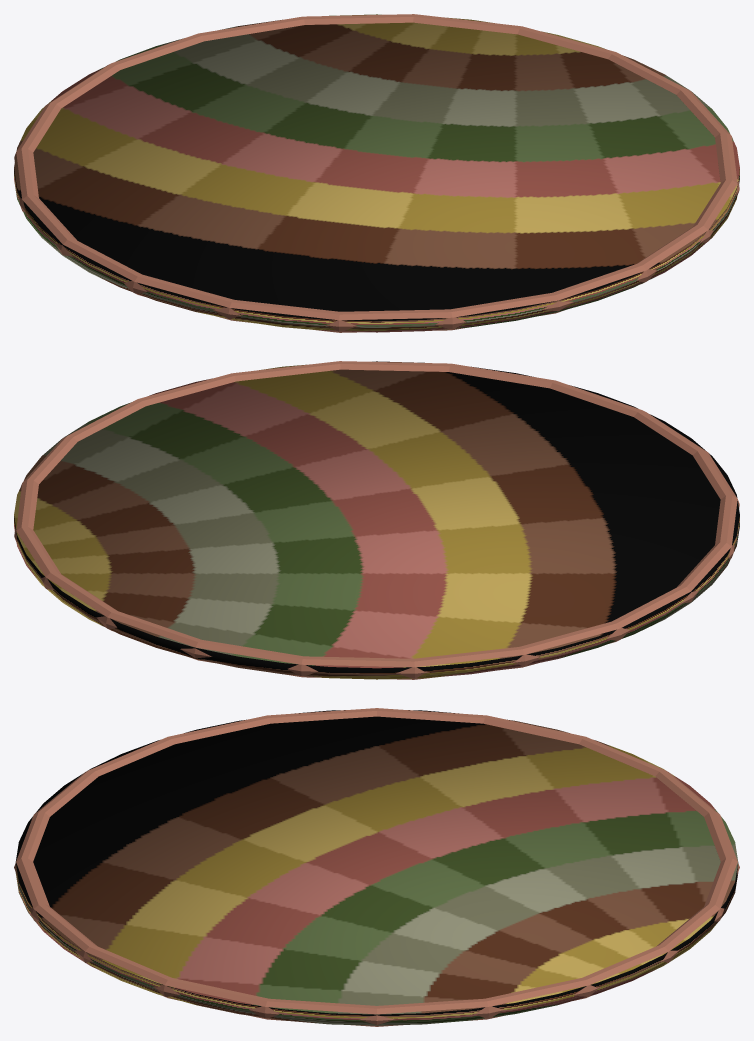
File: round-rug.glb
3 views of the same model, one above another, from view 1: azimuth 30°, elevation 25°; view 2: azimuth 150°, elevation 25°; view 3: azimuth 270°, elevation 25° (orthographic).
Parts seen in each view (by area): view 1: rug, braid; view 2: rug, braid; view 3: rug, braid.
Part boxes in pixels (x1,y1,x2,y2): rug: [14, 14, 739, 332]; braid: [14, 14, 739, 332]; rug: [14, 361, 739, 679]; braid: [14, 361, 739, 679]; rug: [15, 710, 738, 1025]; braid: [14, 708, 739, 1026].
Bounding box in the file's own units: 2.06 × 0.0571 × 2.06.
Materials: 2 (1 with a texture image).
